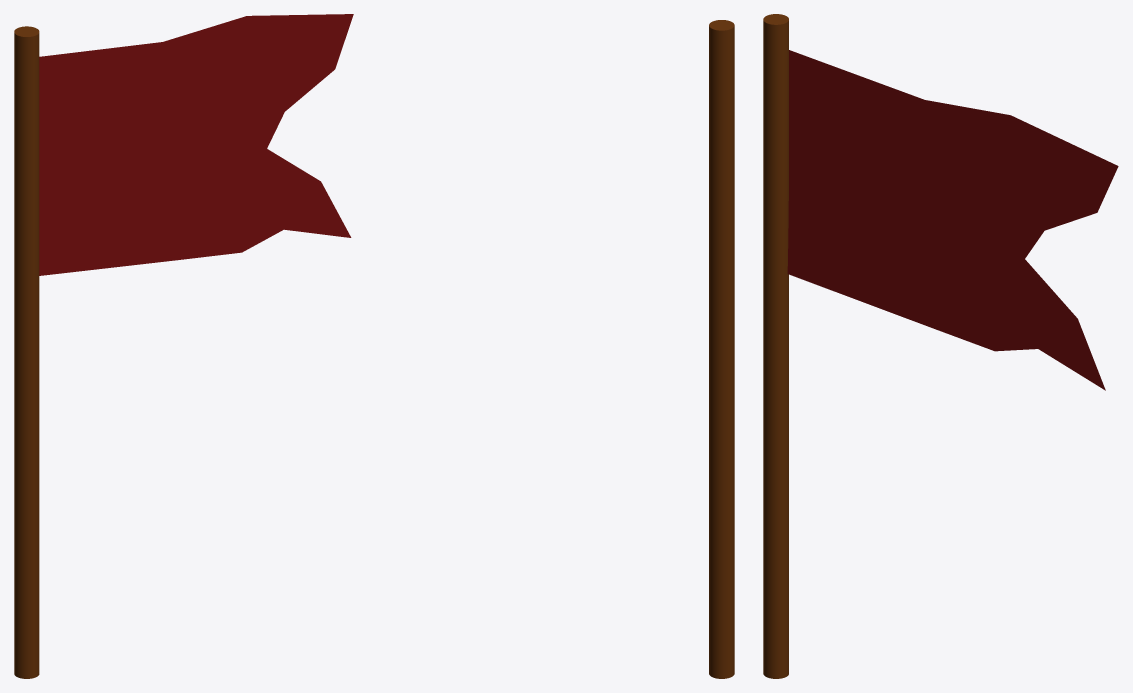
Rendered from flag.glb.
The picture shows the model from 3 angles, left to right: view 1: azimuth 30°, elevation 25°; view 2: azimuth 150°, elevation 25°; view 3: azimuth 330°, elevation 25°; orthographic projection.
Parts seen in each view (by area): view 1: Shape 3, flag; view 2: flag; view 3: Shape 3, flag.
Part boxes in pixels (x1=…): Shape 3: x1=39, y1=14, x2=353, y2=275; flag: x1=14, y1=26, x2=39, y2=678; flag: x1=709, y1=20, x2=734, y2=678; Shape 3: x1=787, y1=50, x2=1118, y2=390; flag: x1=763, y1=14, x2=788, y2=678.
Size of the model in its own units: 0.1563 by 0.28 by 0.01.
